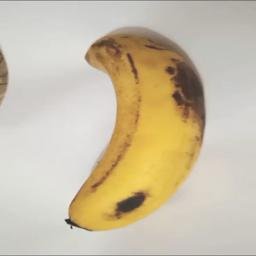Banana Unripe: (64, 33, 206, 234)
